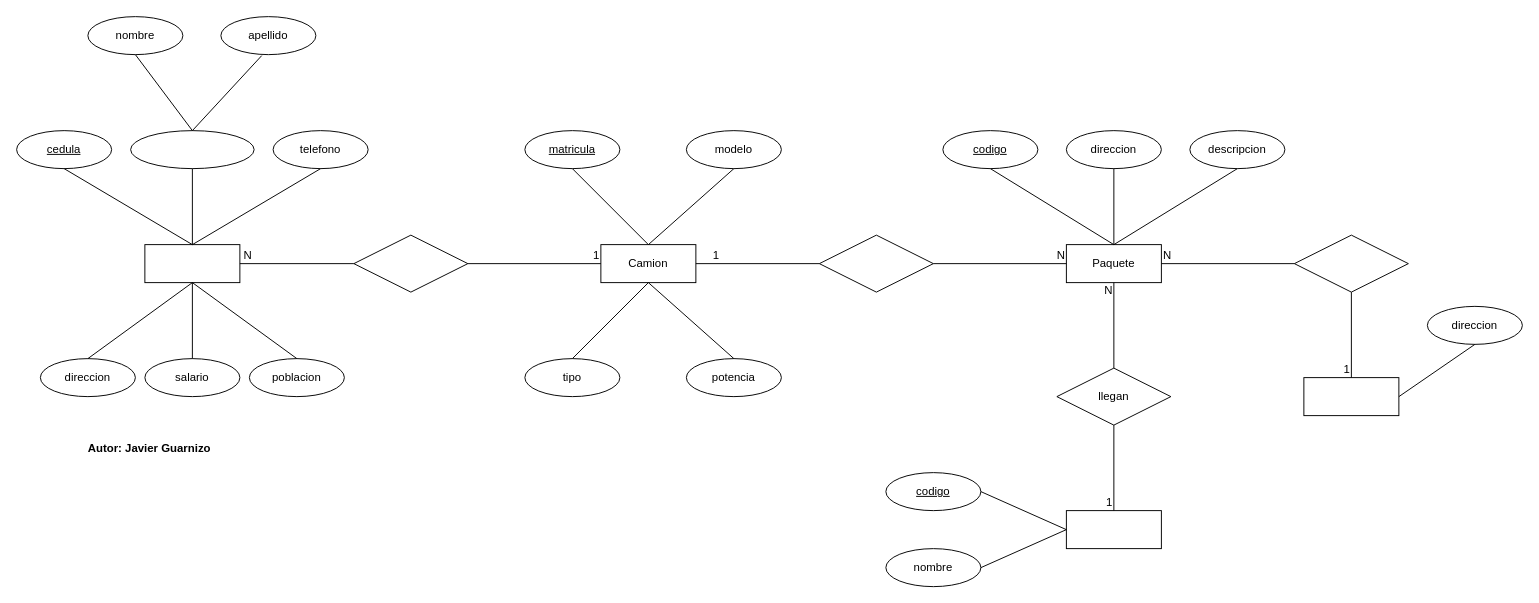
Some shapes in this 1539 by 603 pixel diagram are drawn without their labels. The centre of each missing label's shape, as x and y in pixels:
"Camionero" goes at point (192, 263).
"conduce" goes at point (410, 263).
"Destinatario" goes at point (1351, 396).
"es entregado" goes at point (1350, 263).
"nombresCompletos" goes at point (192, 149).
"Provincia" goes at point (1113, 529).
"transporta" goes at point (875, 263).
